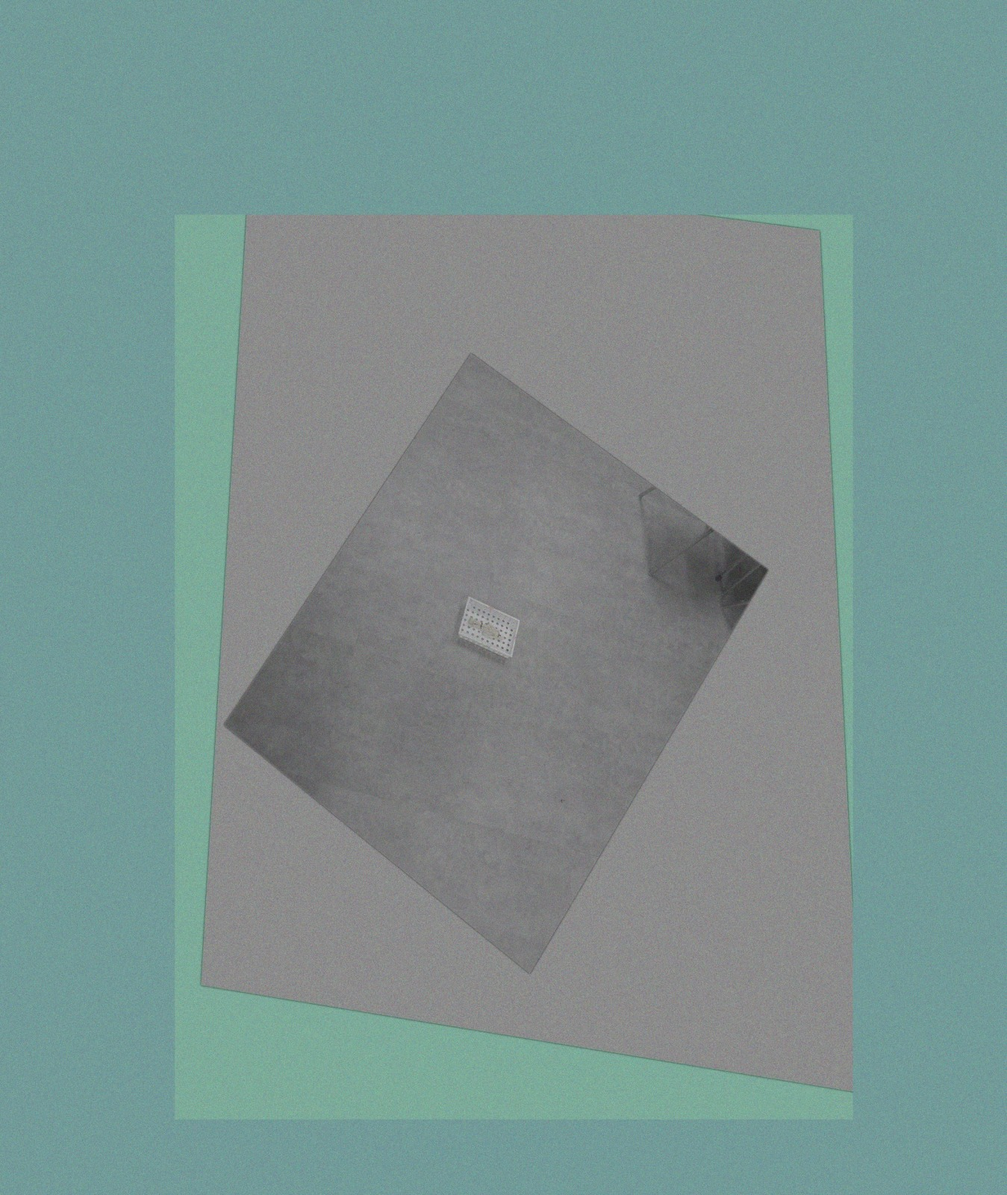basket: (458, 595, 522, 662)
mannequin: (467, 616, 504, 641)
